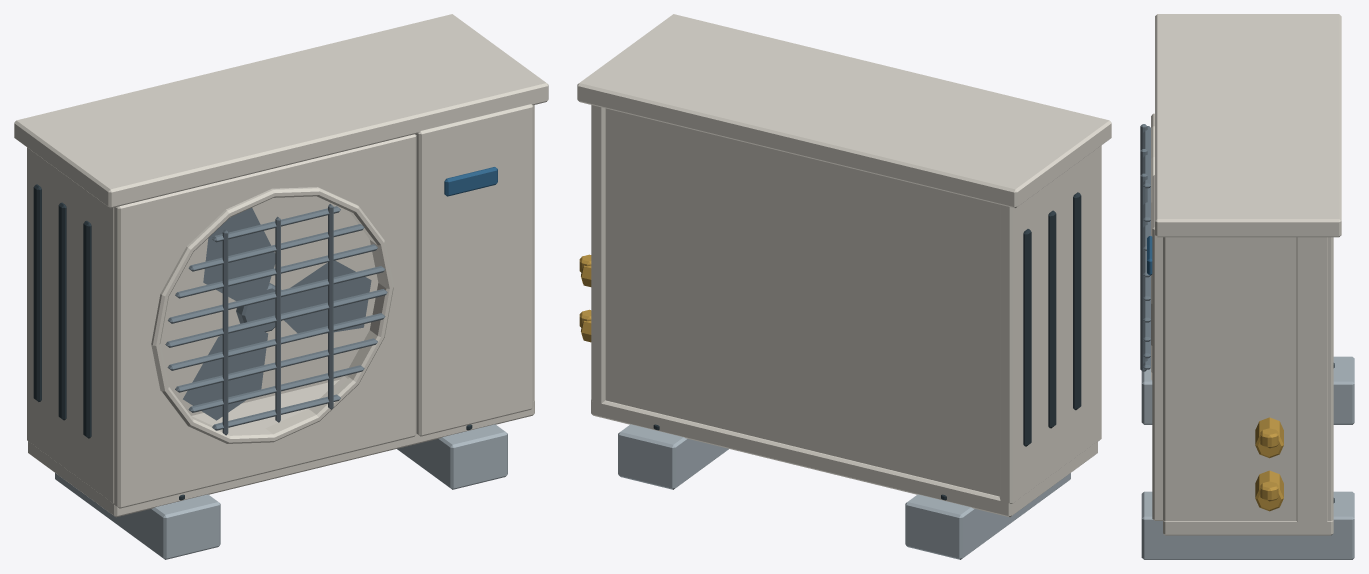
File: b05_mini_split_outdoor_unit.glb
3 views of the same model, side by side, from view 1: azimuth 30°, elevation 25°; view 2: azimuth 150°, elevation 25°; view 3: azimuth 270°, elevation 25° (orthographic). The views are drawn at different scales.
Visible parts, largest first — view 1: b05_mini_split_outdoor_unit; view 2: b05_mini_split_outdoor_unit; view 3: b05_mini_split_outdoor_unit.
Boxes of the visible parts, left/top/right/bottom form: b05_mini_split_outdoor_unit: left=14, top=14, right=548, bottom=559; b05_mini_split_outdoor_unit: left=577, top=14, right=1111, bottom=559; b05_mini_split_outdoor_unit: left=1140, top=14, right=1354, bottom=559.
Size of the model in its own units: 0.9878 by 0.753 by 0.403.
